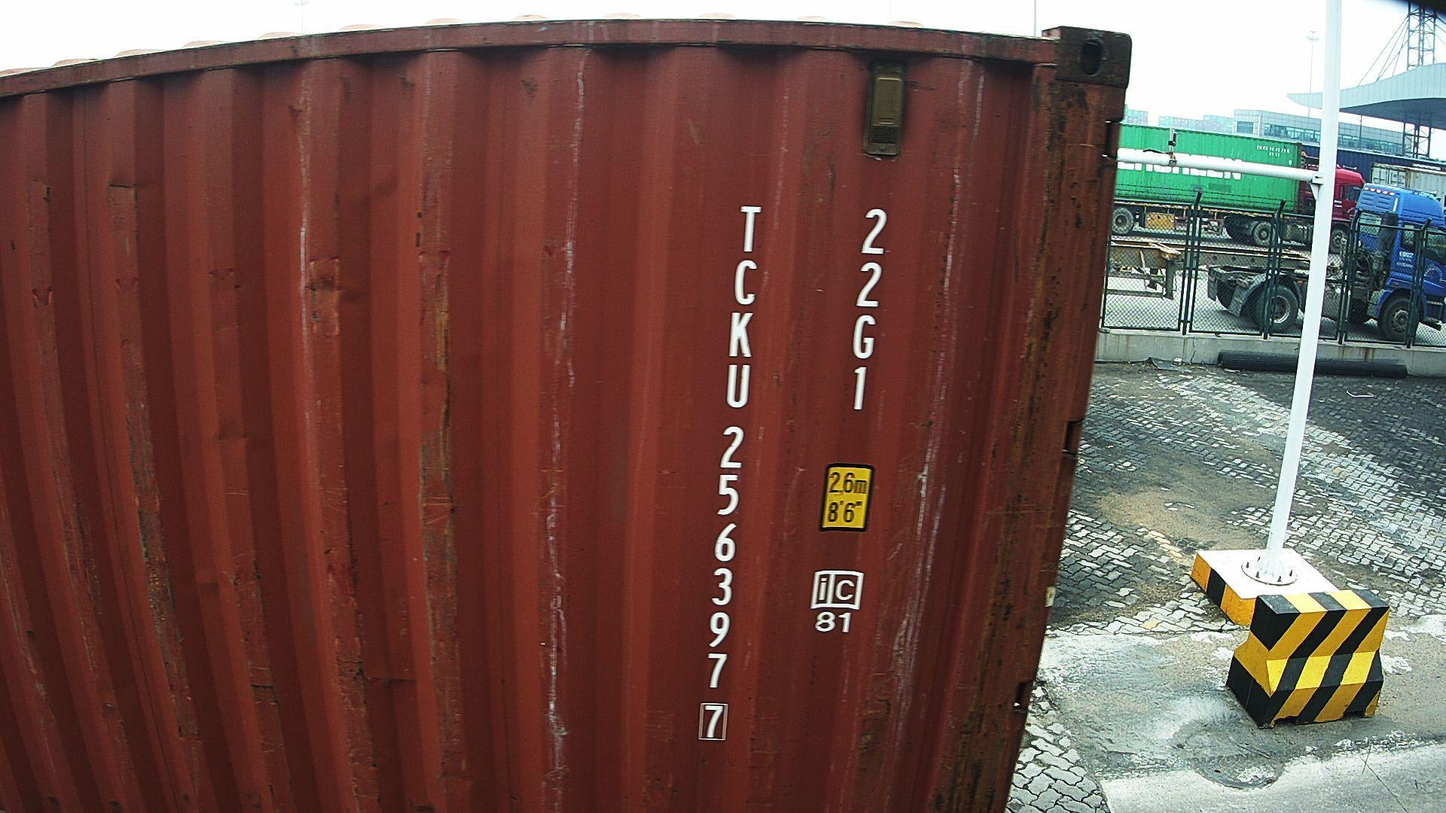container-numbers: (691, 197, 770, 751), (836, 200, 892, 416)
